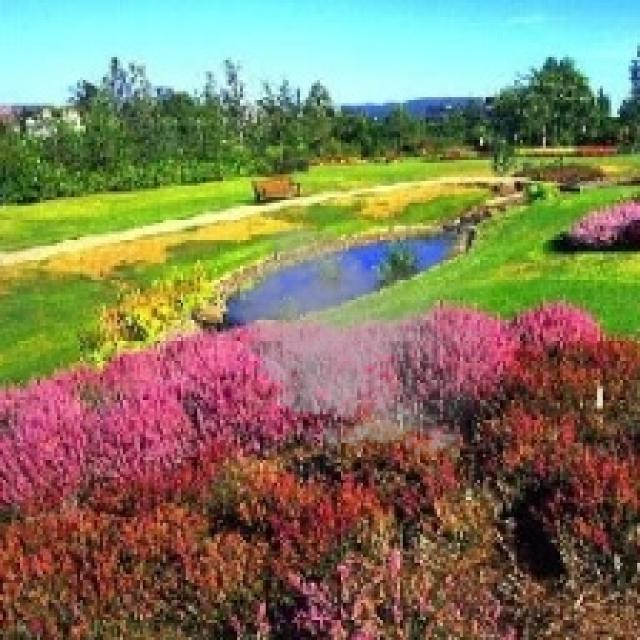smoke: (217, 217, 492, 463)
